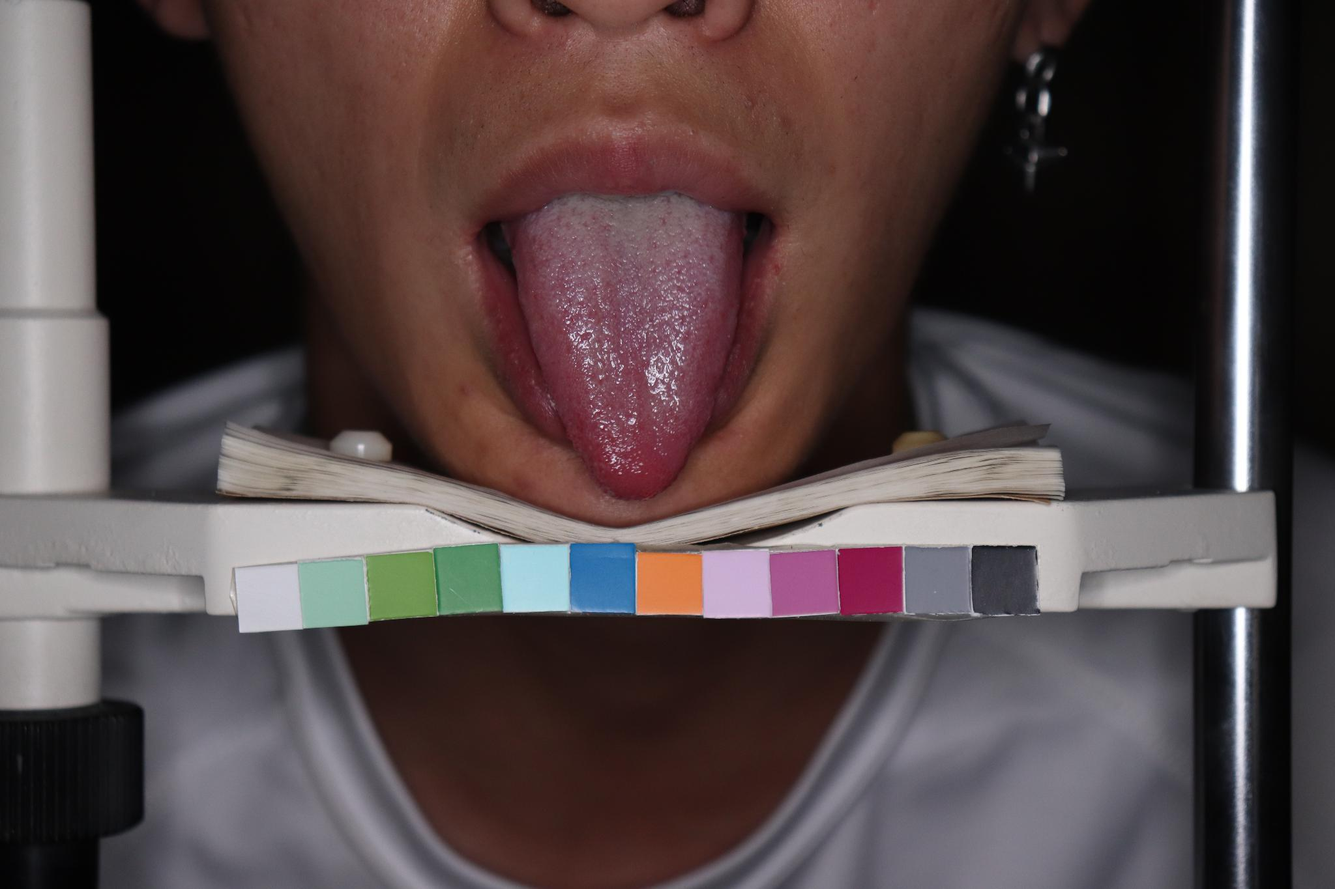baitaishe: (503, 191, 748, 500)
hongshe: (503, 190, 747, 500)
huataishe: (601, 445, 668, 477)
shoushe: (503, 191, 748, 500)
